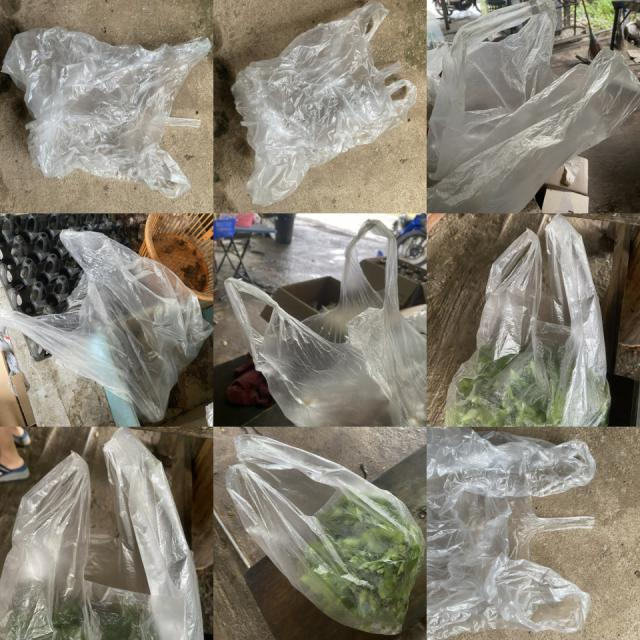Single-layer Plastic: (428, 0, 640, 212), (0, 429, 204, 640), (225, 220, 426, 426), (0, 230, 211, 422), (226, 436, 424, 634), (231, 1, 416, 206), (2, 28, 211, 199), (428, 428, 595, 639), (445, 215, 610, 426)
